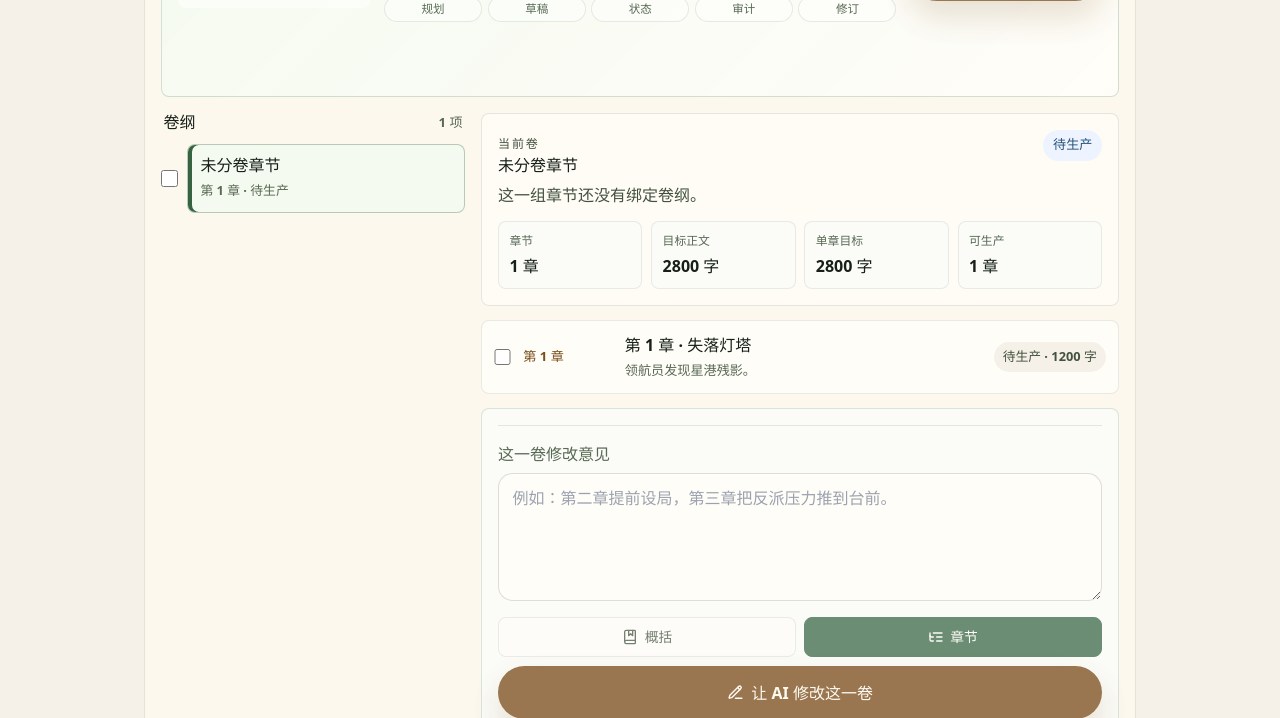
it: moves batch production stage progress into the submit button
The width and height of the screenshot is (1280, 718).
(page scrolled)
Click the checkbox named "选择第 1 章 · 失落灯塔": click(503, 357) [494,349,511,365]
(page scrolled)
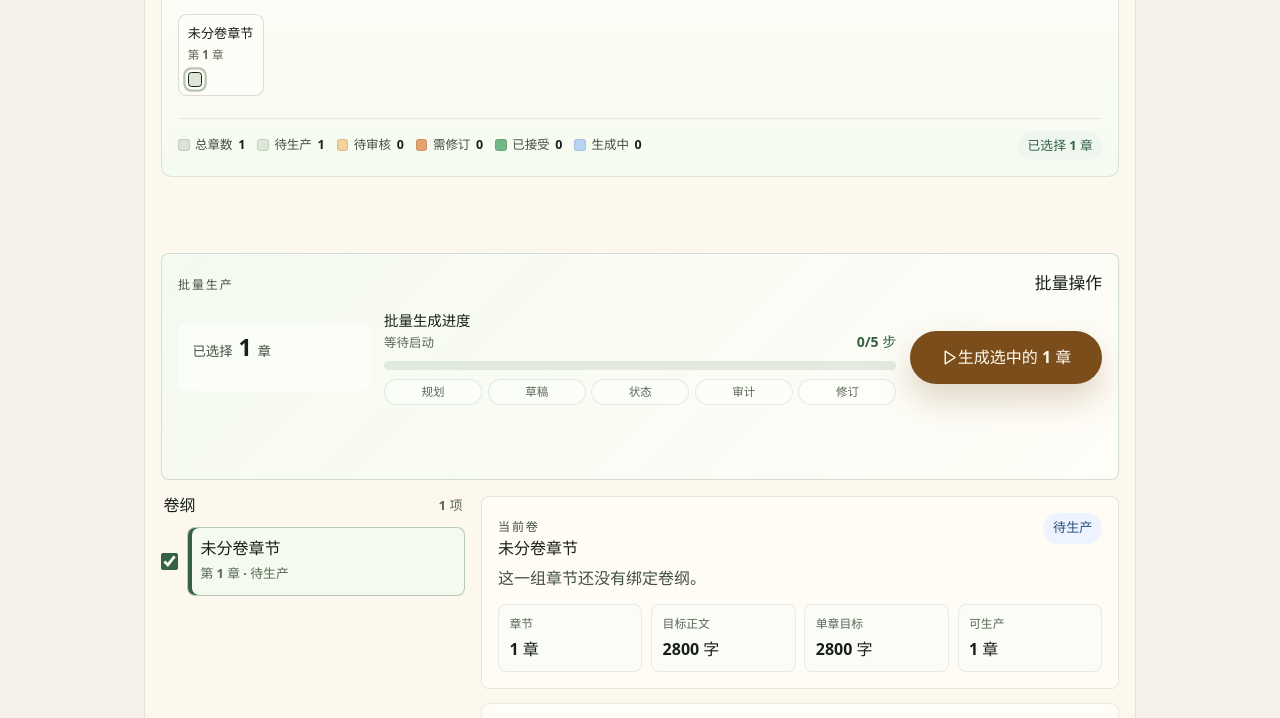
Click the button "生成选中的 1 章": click(1006, 357) [910,331,1102,384]
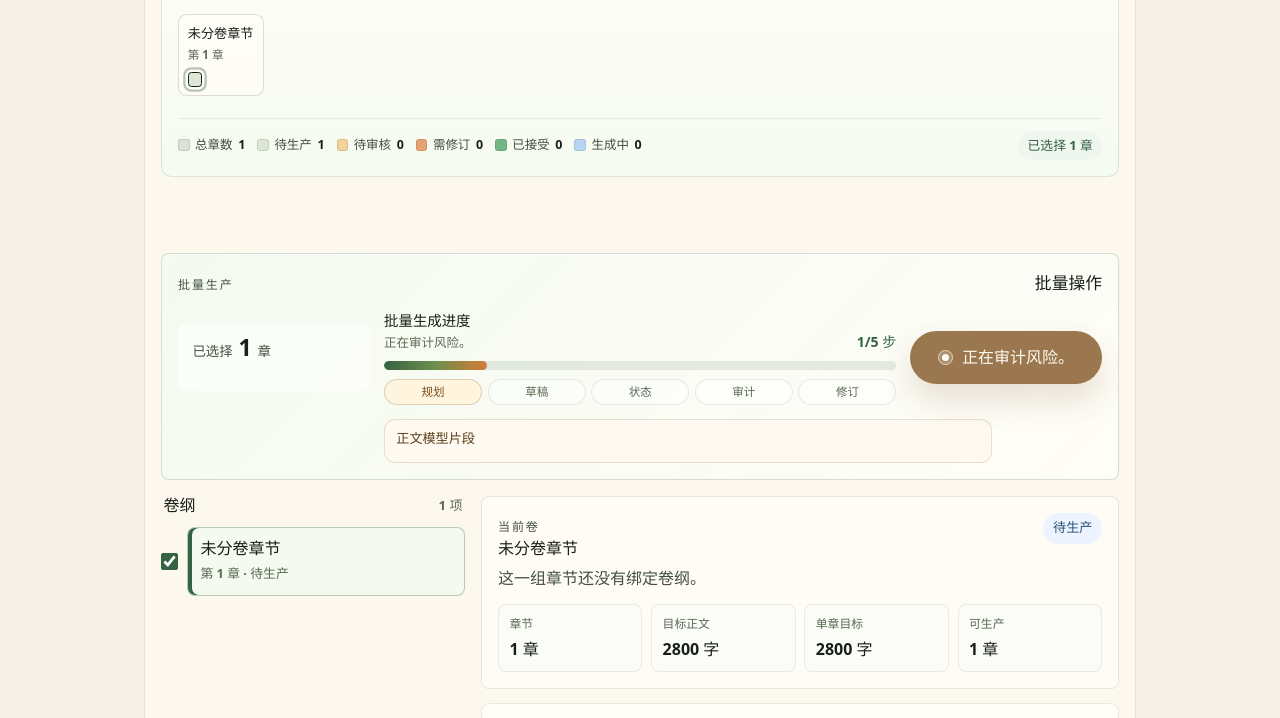
Expected: the button "正在审计风险。" is disabled, [910,331,1102,384]
